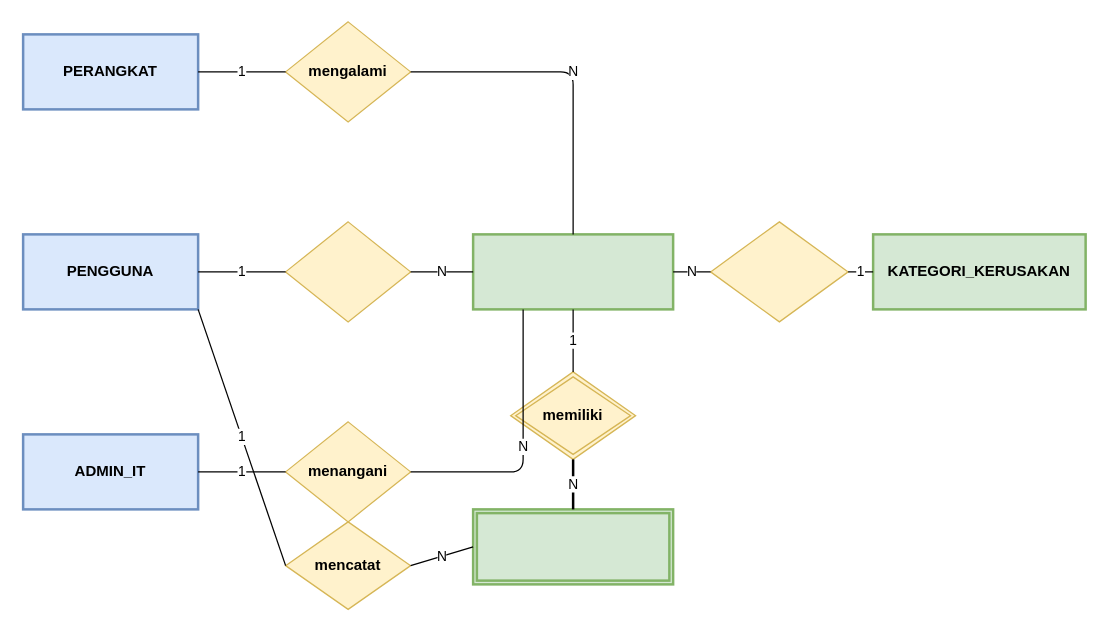
The diagram is 1108 pixels wide and 631 high, and some of its shapes have lost their labels. Here are the shapes that lost their labels. From the top down, the centre of each, then its label:
(347,271): melaporkan
(572,271): TIKET_KERUSAKAN
(778,271): dikelompokkan
(572,546): RIWAYAT_TIKET
